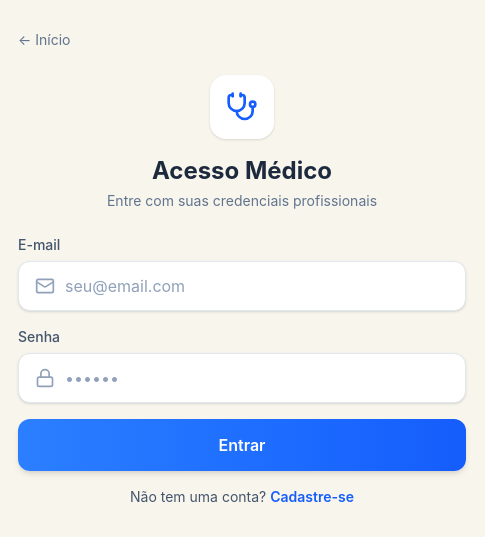
credenciais erradas mostram erro acessível
This screenshot has width=485, height=537.
Type "medico@helptap.com" into the field labelled "E-mail" at coordinates (257, 286), box [65,274,449,298]
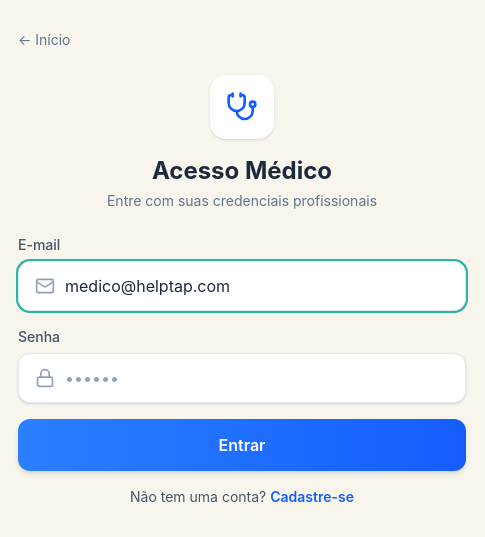
Type "errada" into the password field labelled "Senha" at coordinates (257, 378), box [65,366,449,390]
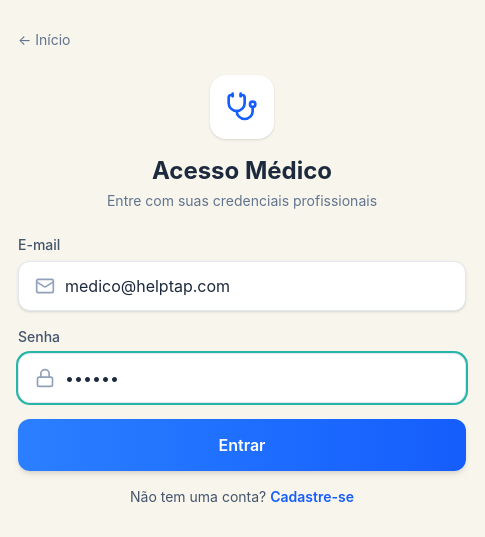
Click the button "Entrar" at coordinates (242, 445), box [18,419,466,471]
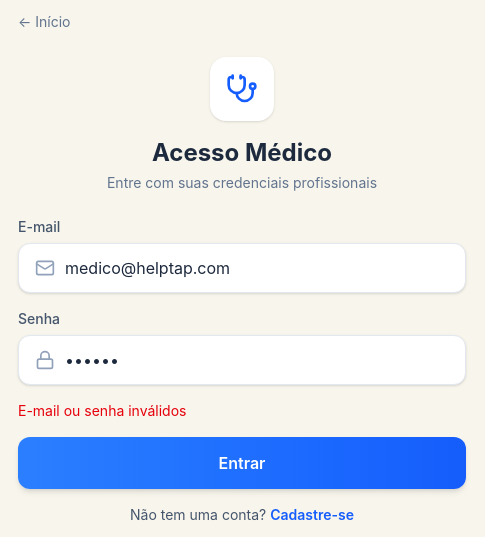
Result: the message reads "E-mail ou senha inválidos" at [18,402,186,419]
